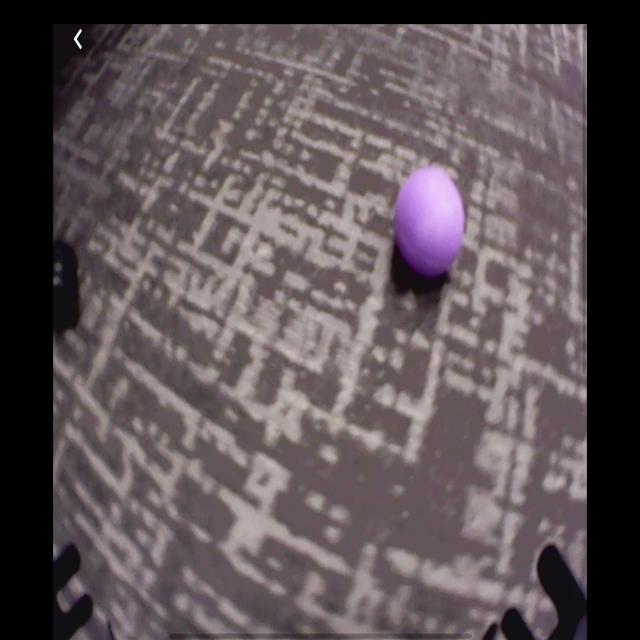ball: (396, 169, 465, 278)
